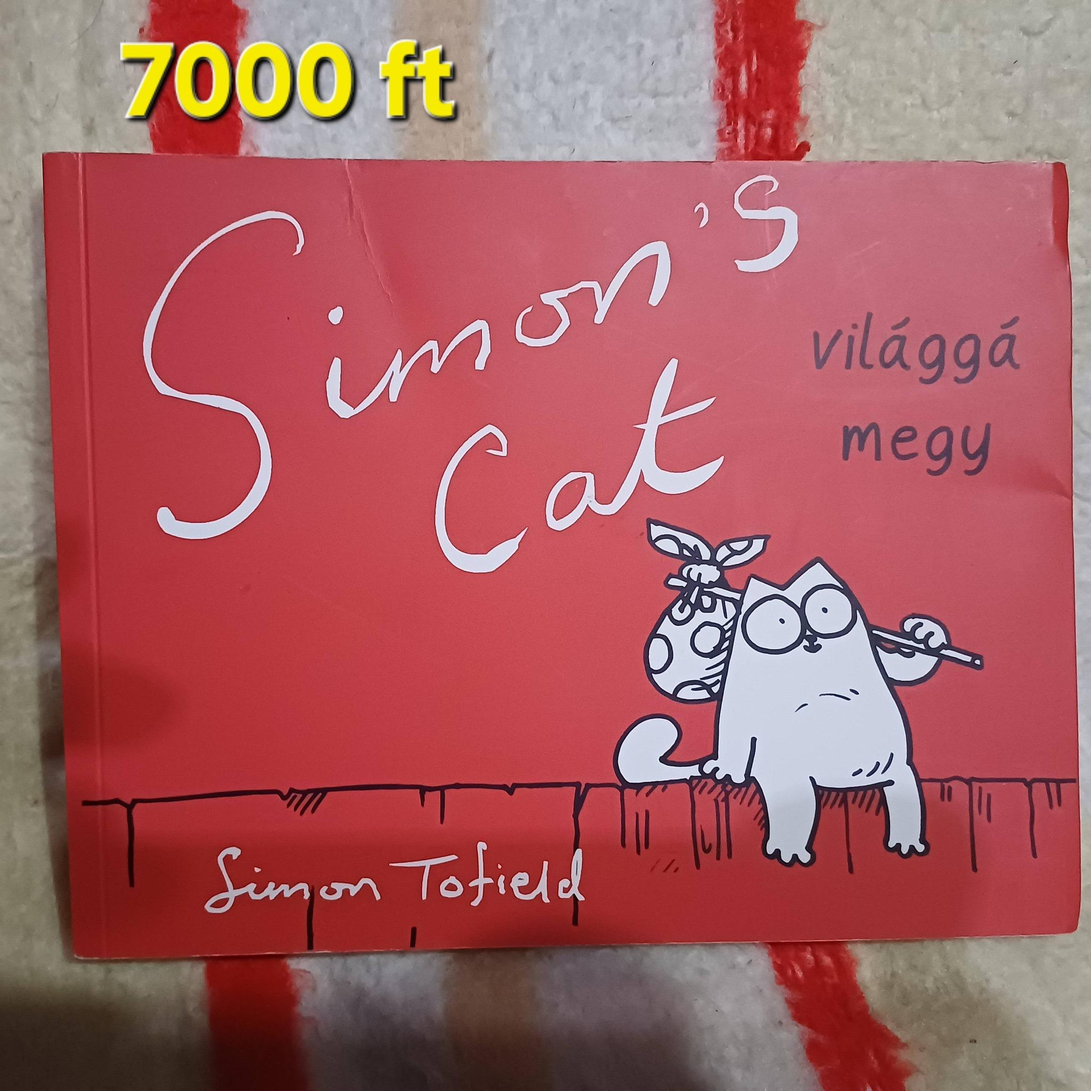comic: (44, 144, 1080, 957)
